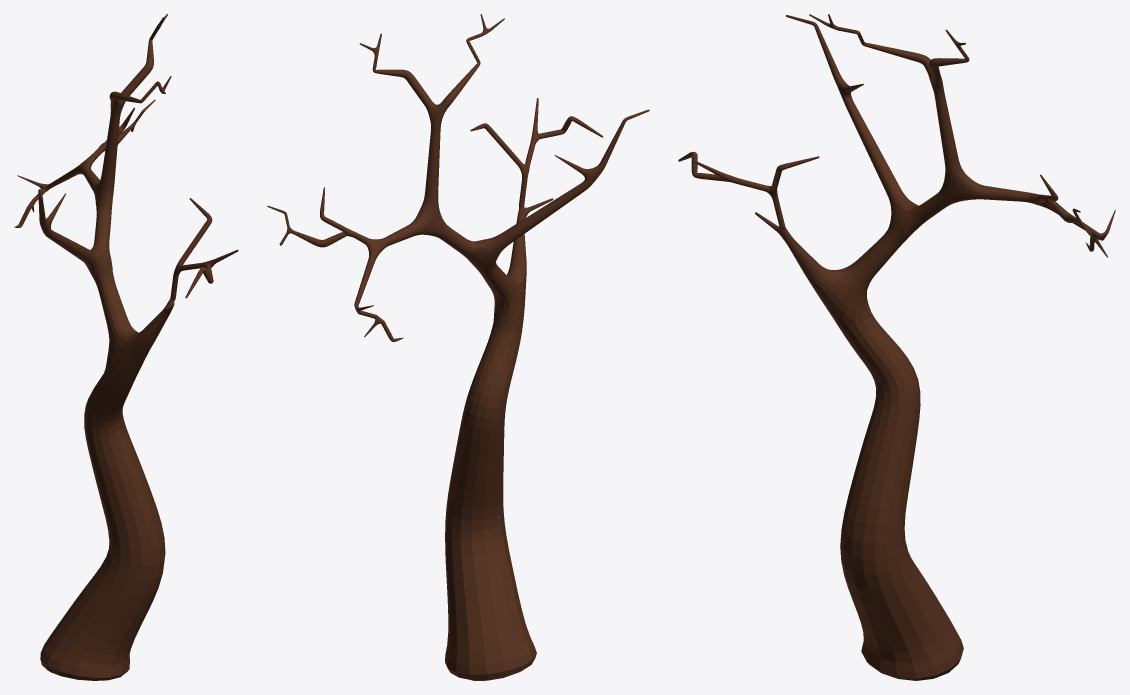
Rendered from arbolSeco1.fbx.
3 renders of one model, left to right at view 1: azimuth 30°, elevation 25°; view 2: azimuth 150°, elevation 25°; view 3: azimuth 270°, elevation 25°, orthographic. The views are drawn at different scales.
Visible parts, largest first — view 1: Cube.5541; view 2: Cube.5541; view 3: Cube.5541.
Part boxes in pixels (box(x1,y1,x2,y2)): Cube.5541: box(14, 14, 238, 680); Cube.5541: box(267, 14, 649, 680); Cube.5541: box(678, 14, 1115, 680).
Bounding box in the file's own units: 1366 × 3279 × 1902.
